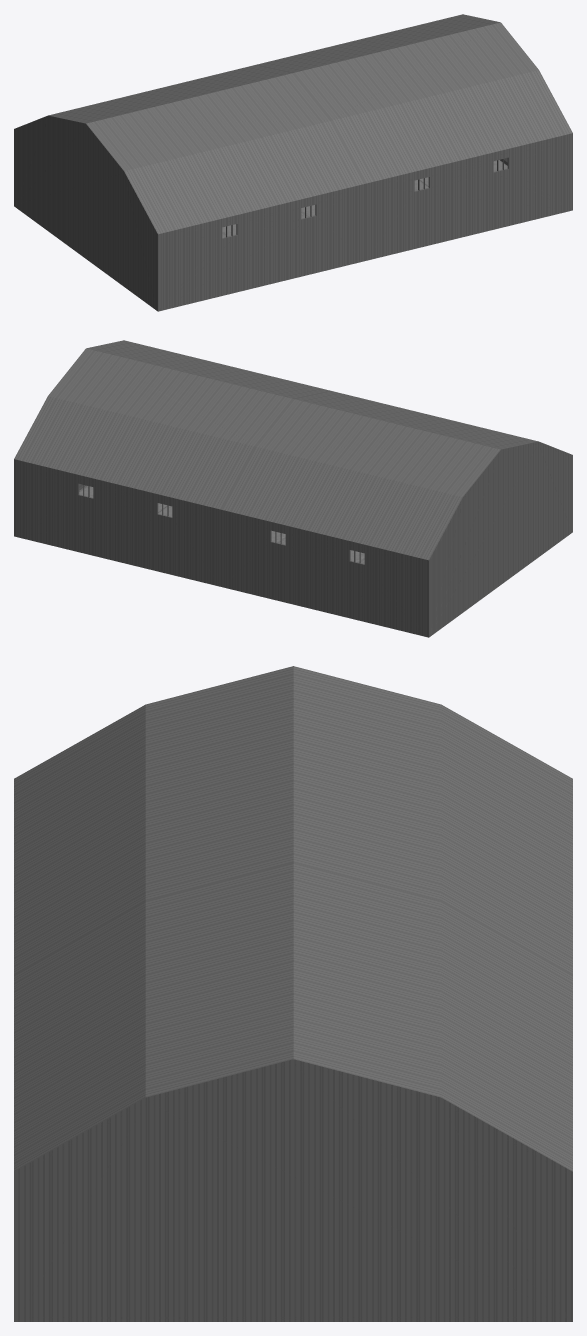
Rendered from warehouse_building.glb.
3 views of the same model, one above another, from view 1: azimuth 30°, elevation 25°; view 2: azimuth 150°, elevation 25°; view 3: azimuth 270°, elevation 25° (orthographic). The views are drawn at different scales.
Visible parts, largest first — view 1: Material2 (×2); view 2: Material2 (×2); view 3: Material2.
Boxes of the visible parts, bbox=[...] form: Material2 (×2): bbox=[14, 14, 572, 311]; Material2 (×2): bbox=[14, 340, 572, 637]; Material2: bbox=[14, 666, 572, 1321].
Bounding box in the file's own units: 883 × 275 × 531.
4 materials, 4 textured.
